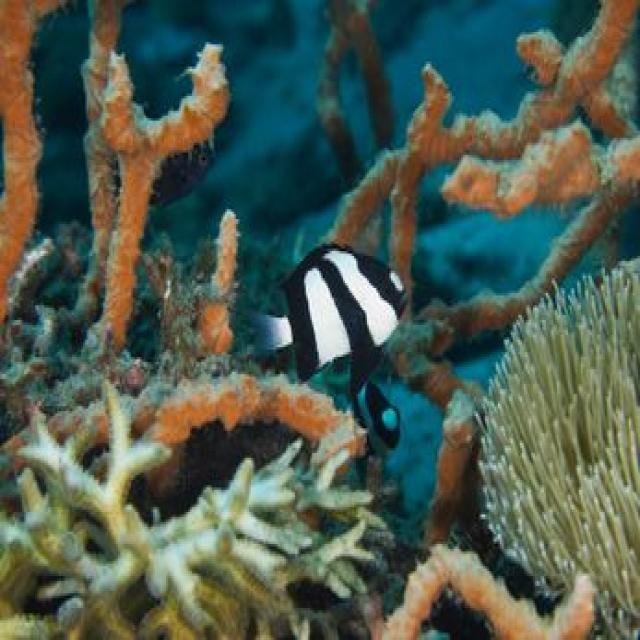ThreeStripedDamselfish: (262, 244, 408, 401)
